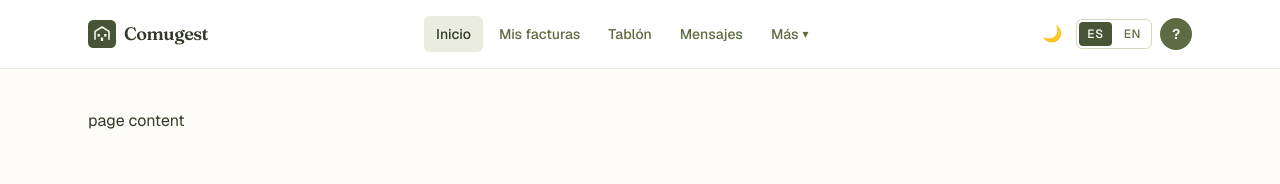
Scenario: Layout › renders the user menu button (which contains logout)
The width and height of the screenshot is (1280, 184).
Click the button named "user menu".
click(1176, 34)  # box [1160,18,1192,50]
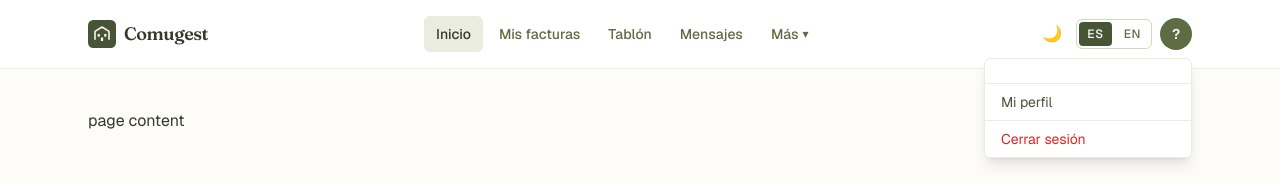
expect the button "Cerrar sesión" is shown: met, box [985,121,1191,157]
